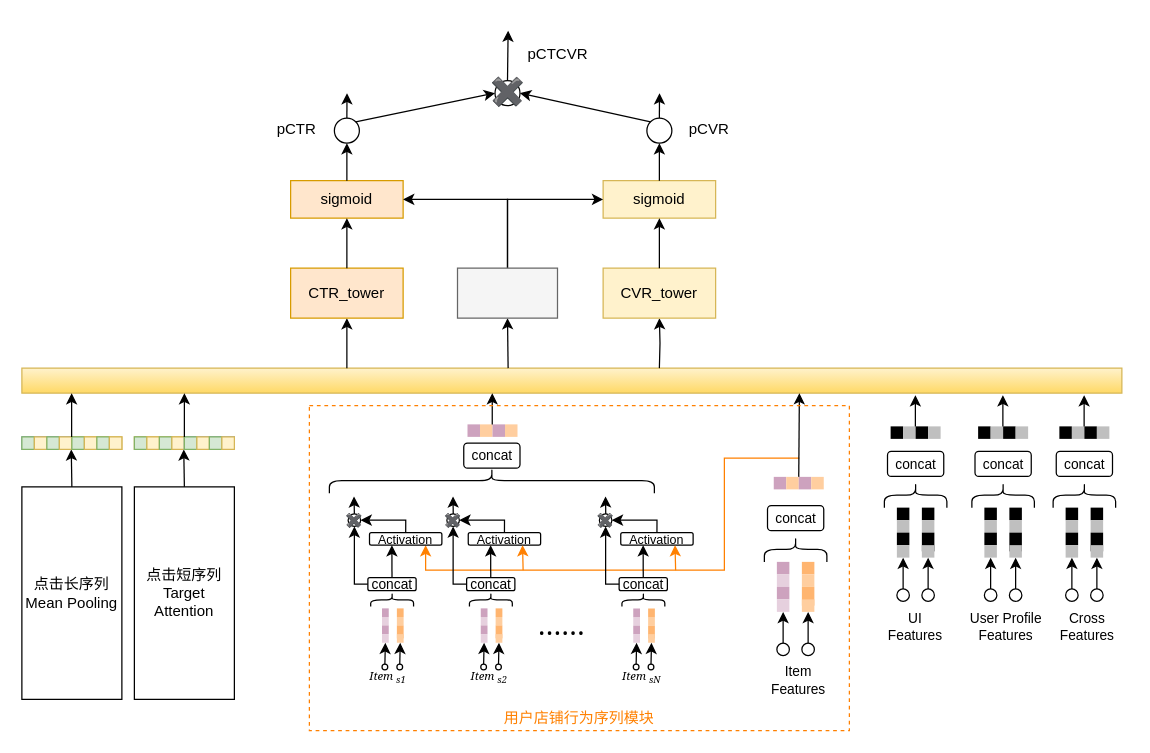
Some shapes in this 1150 by 753 pixel diagram are drawn without their labels. The box of each missing label's shape, as (x1, y1, x2, y2) in pixels:
All Features Embedding: (21, 367, 1122, 393)
Bias_tower: (456, 267, 558, 318)
